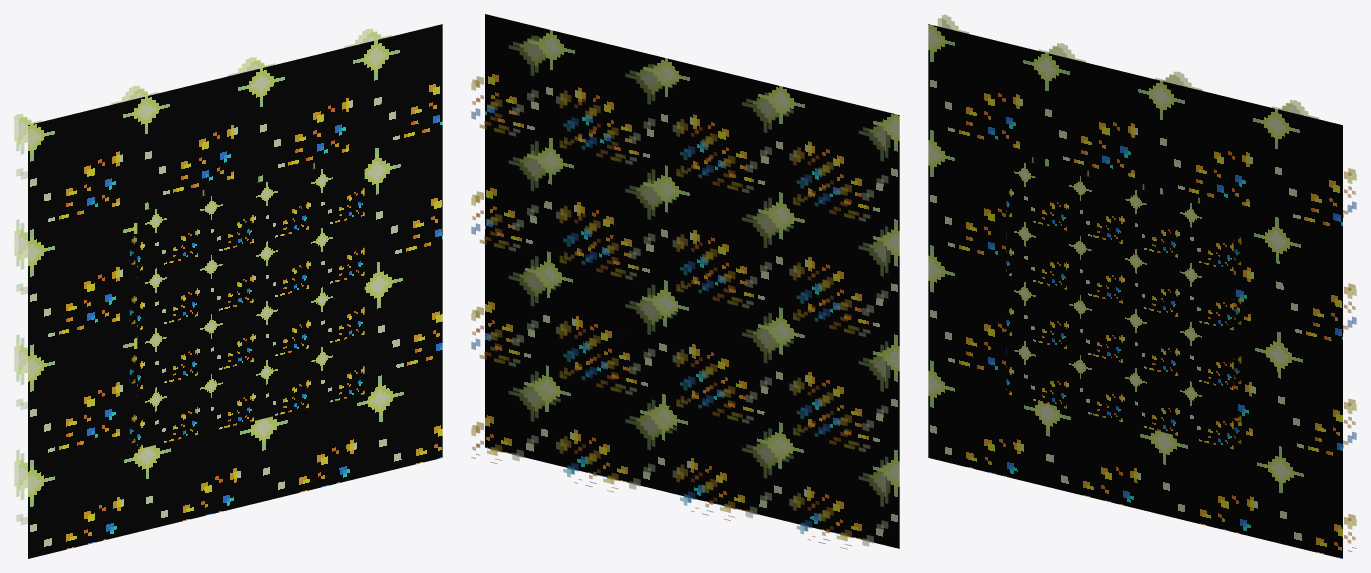
The picture shows the model from 3 angles, left to right: view 1: azimuth 30°, elevation 25°; view 2: azimuth 150°, elevation 25°; view 3: azimuth 330°, elevation 25°; orthographic projection.
Visible parts, largest first — view 1: ef_053; view 2: ef_053; view 3: ef_053.
Boxes of the visible parts, bbox=[...] form: ef_053: bbox=[14, 24, 442, 558]; ef_053: bbox=[471, 14, 899, 549]; ef_053: bbox=[928, 14, 1356, 558].
Bounding box in the file's own units: 1.1 × 1.1 × 0.1345.
2 materials, 2 textured.
